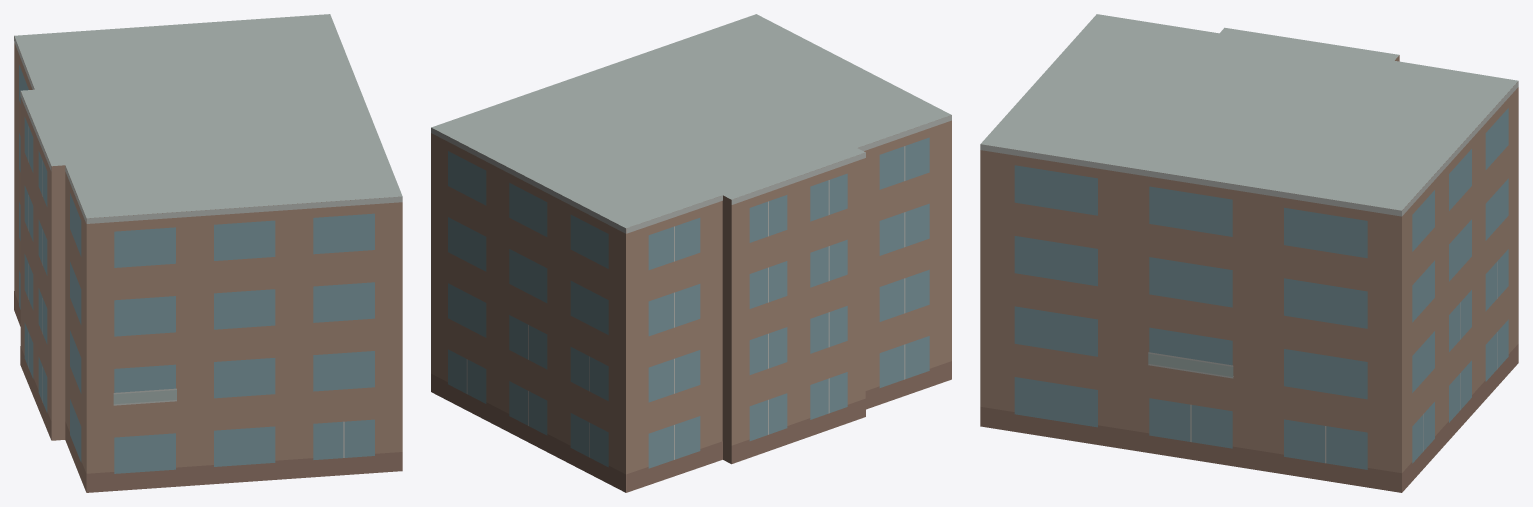
Rendered from survey-upis-32636496.glb.
3 renders of one model, left to right at view 1: azimuth 30°, elevation 25°; view 2: azimuth 150°, elevation 25°; view 3: azimuth 270°, elevation 25°, orthographic. The views are drawn at different scales.
Parts seen in each view (by area): view 1: survey-upis-32636496.tmp; view 2: survey-upis-32636496.tmp; view 3: survey-upis-32636496.tmp.
Boxes of the visible parts, left/top/right/bottom form: survey-upis-32636496.tmp: left=14, top=14, right=402, bottom=492; survey-upis-32636496.tmp: left=431, top=14, right=951, bottom=492; survey-upis-32636496.tmp: left=980, top=14, right=1518, bottom=492.
Size of the model in its own units: 17.5 by 11.7 by 20.24.
